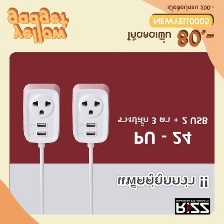three_eye_plug: (69, 80, 113, 144), (20, 81, 61, 145)
